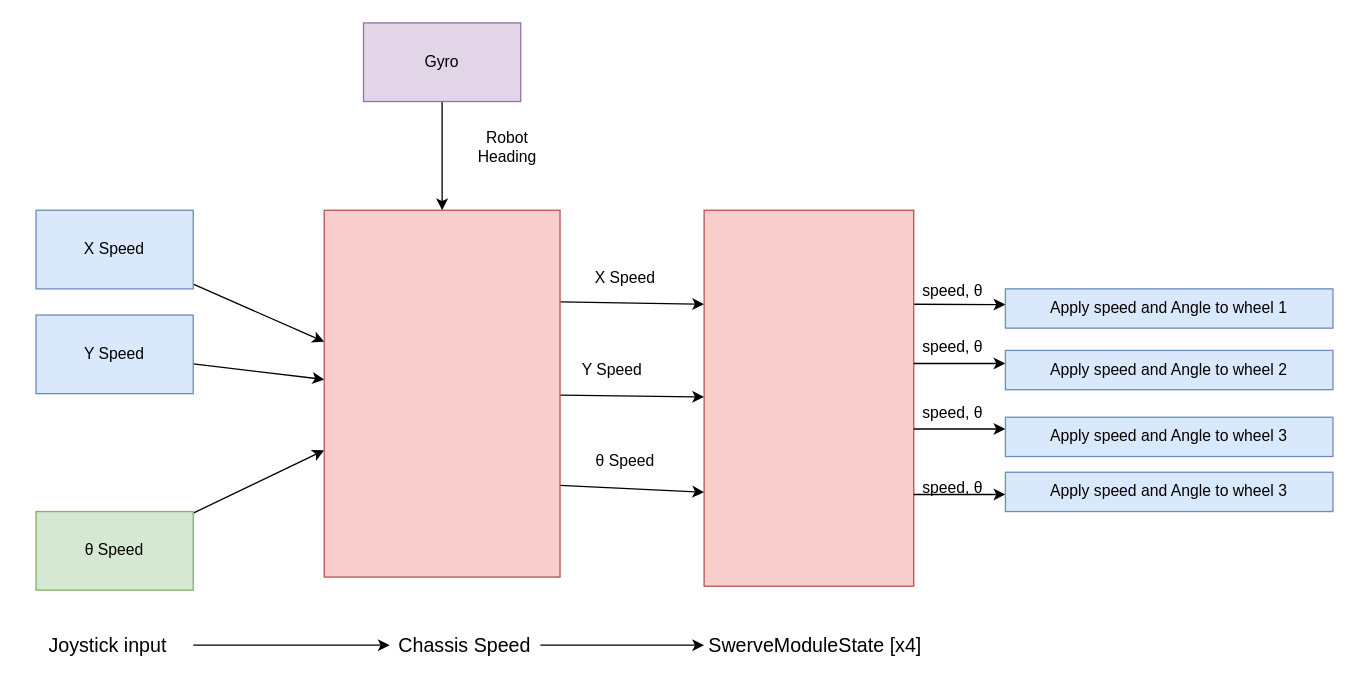
This 1356x688 diagram has some shape labels left out. The centre of each missing label's shape, as x and y in pixels:
Calculate speed and angle for each wheel: the point at 808,397
Convert to robot reference frame: the point at 441,393
